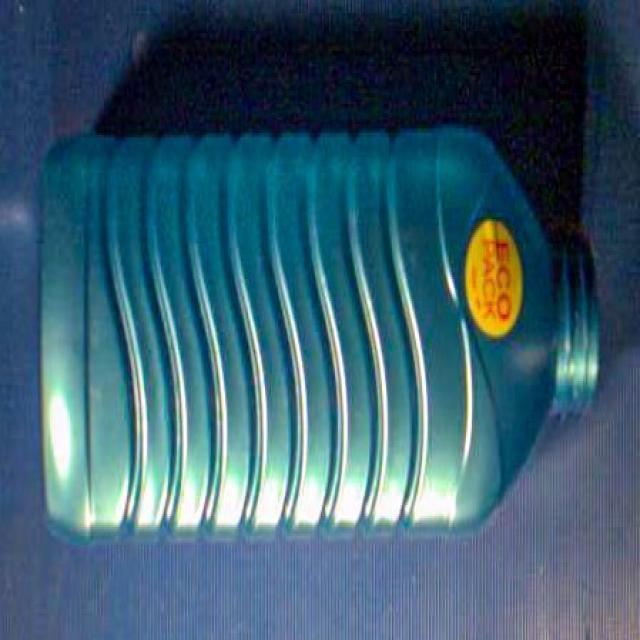HDPE Plastic: (30, 120, 611, 552)
